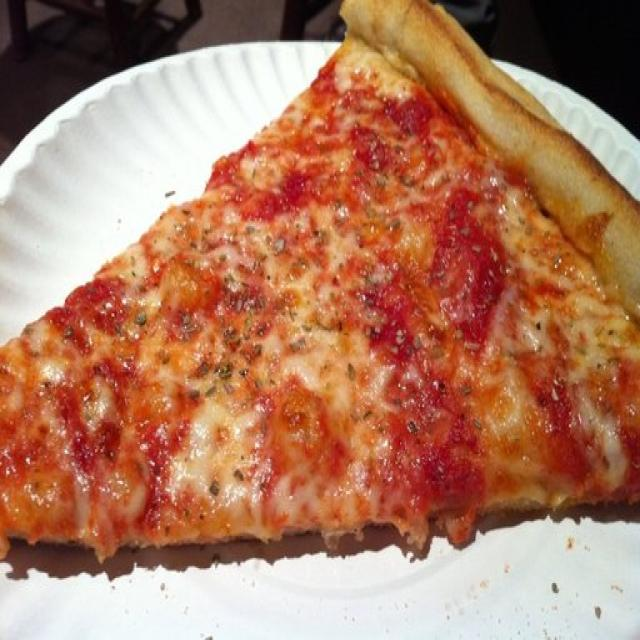Pizza: (0, 0, 640, 561)
